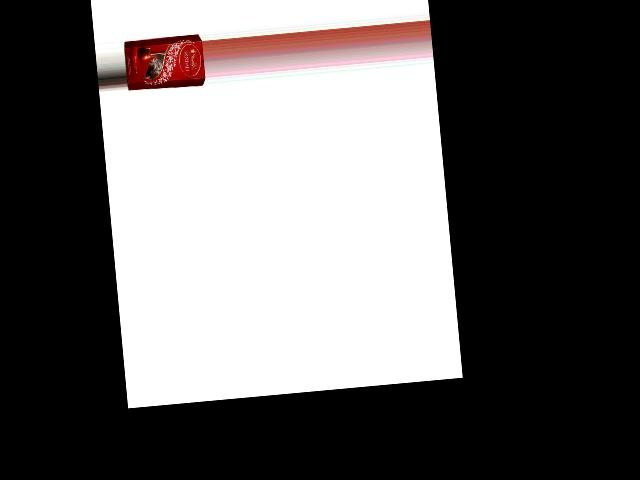chocolate: (122, 30, 205, 93)
